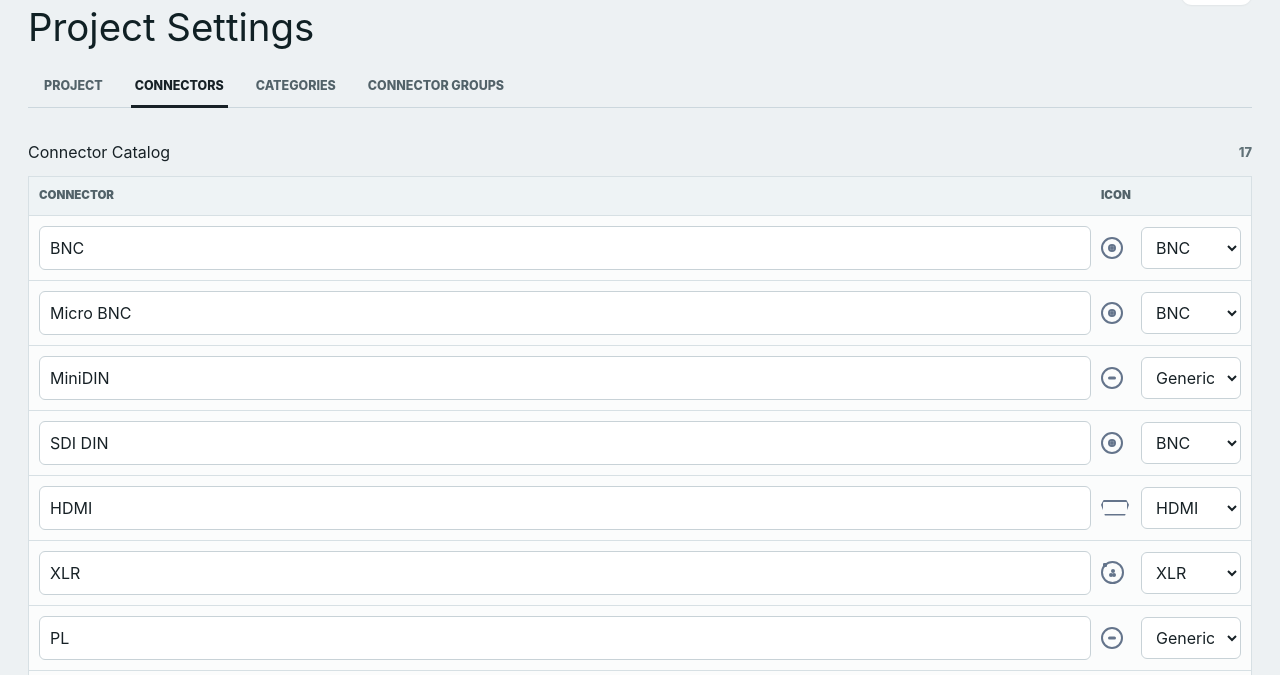
SettingsWorkspace project settings workflows › blocks blank prefixes, uppercases the prefix input, trims names, and resets after add
Click the tab "Project" at (73, 86), box [28,65,119,107]
(page scrolled)
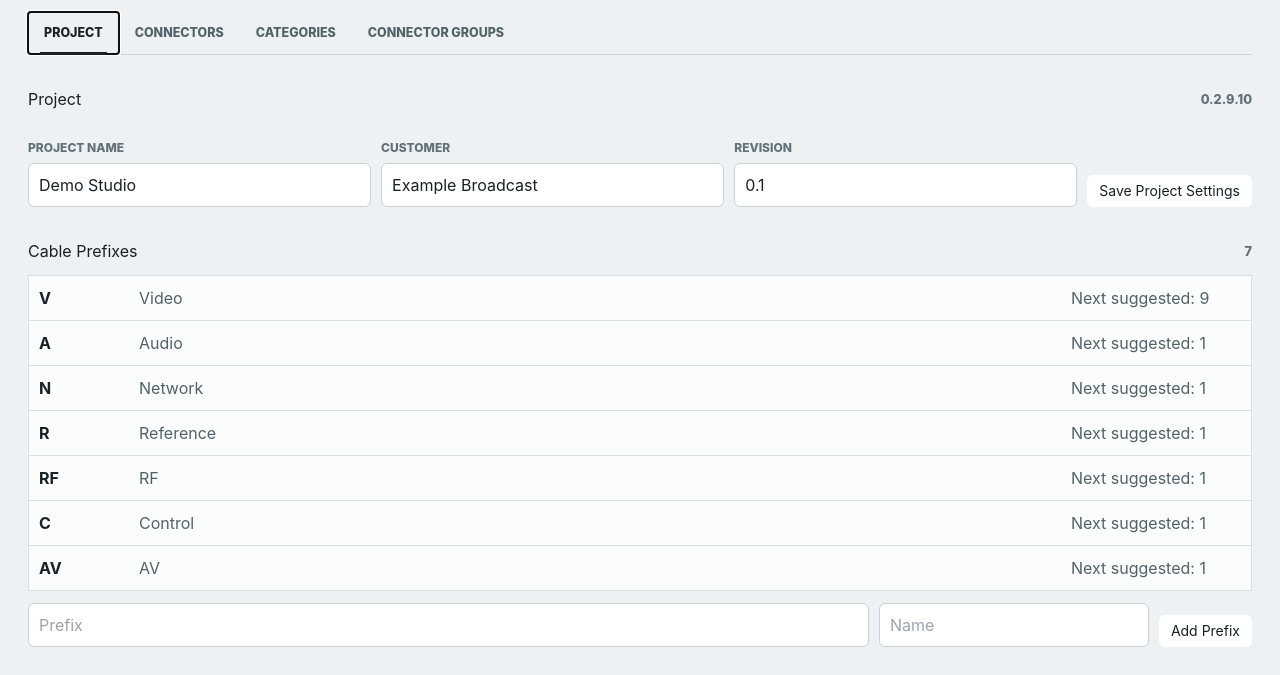
Click the button "Add Prefix" at (1205, 631), box [1159,615,1252,647]
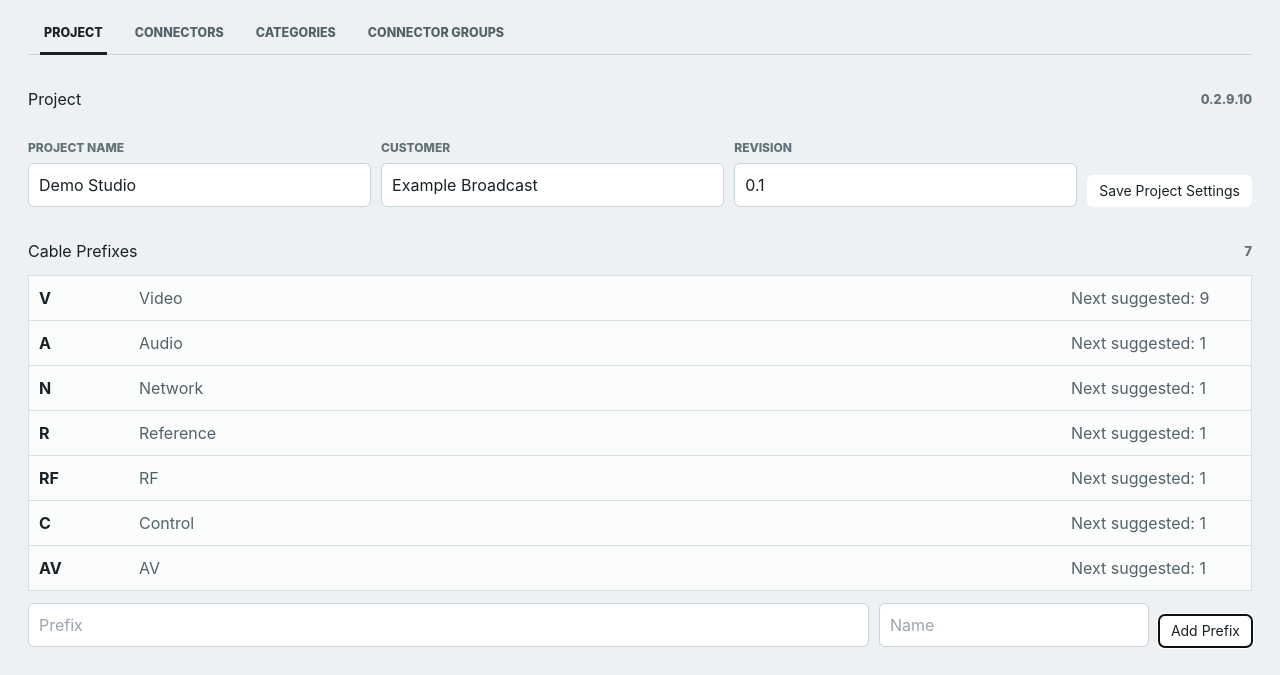
Type " x " into the field with placeholder "Prefix" at (448, 625), box [28,603,869,647]
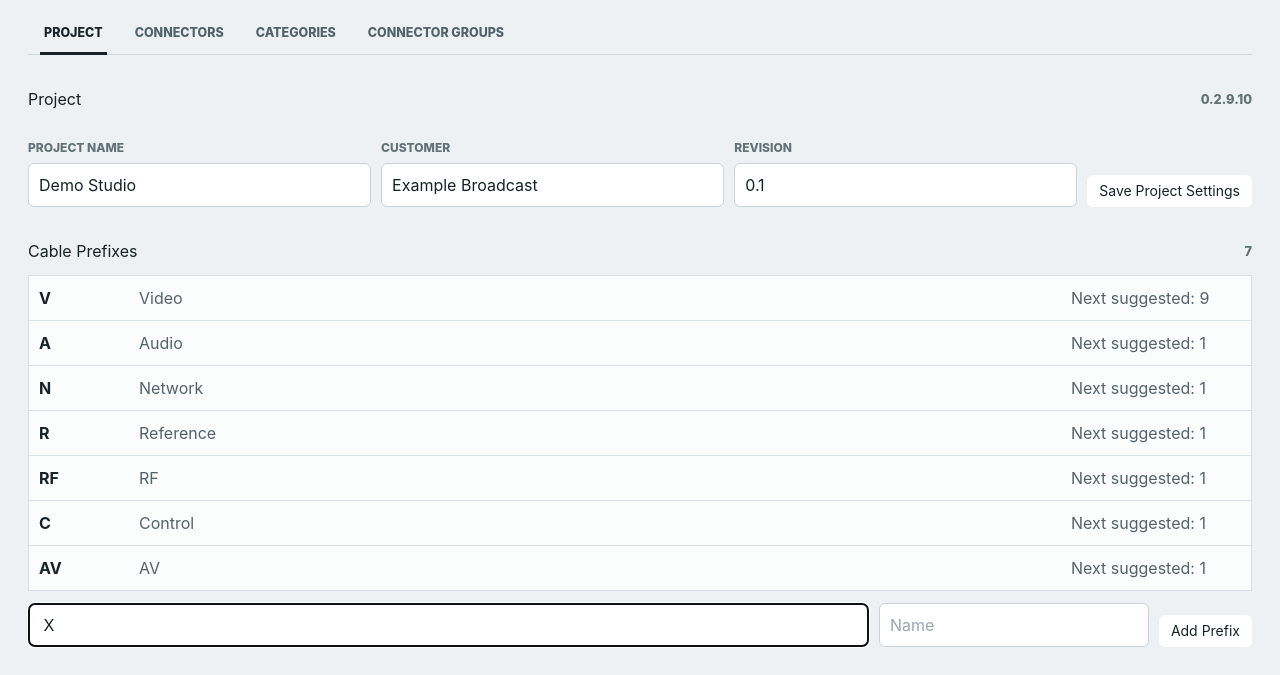
Type " Production " into the field with placeholder "Name" at (1014, 625), box [879,603,1149,647]
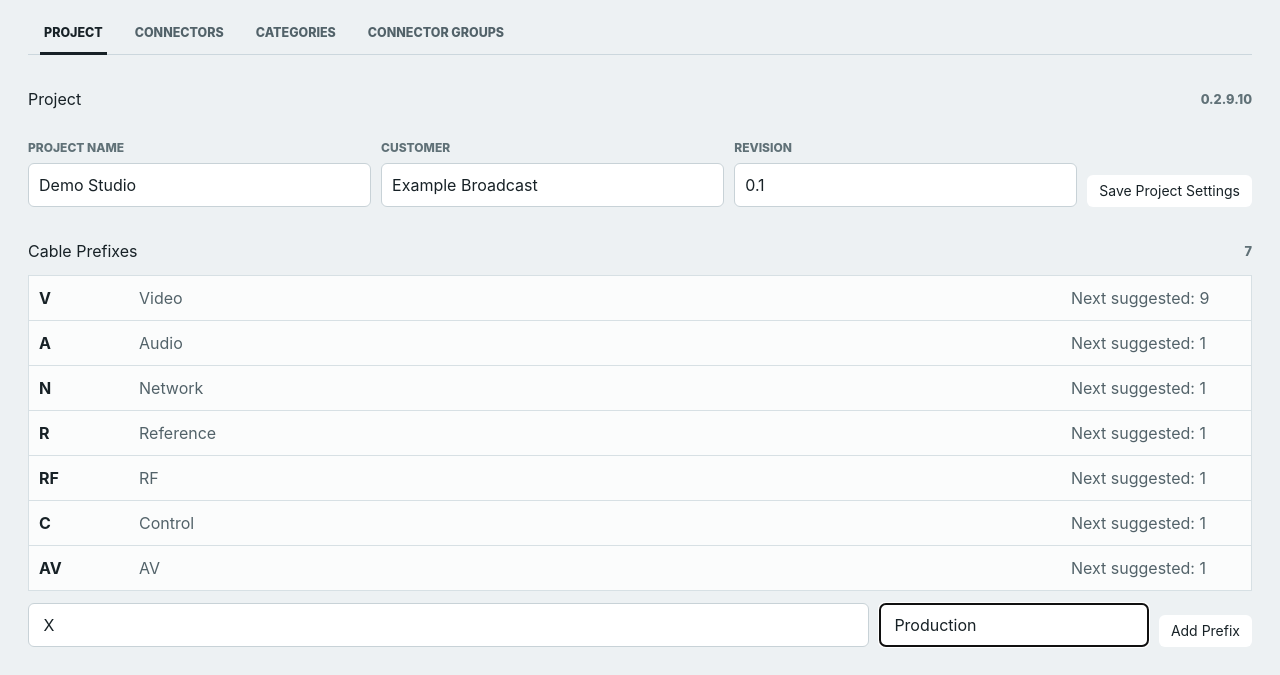
Click the button "Add Prefix" at (1205, 631), box [1159,615,1252,647]
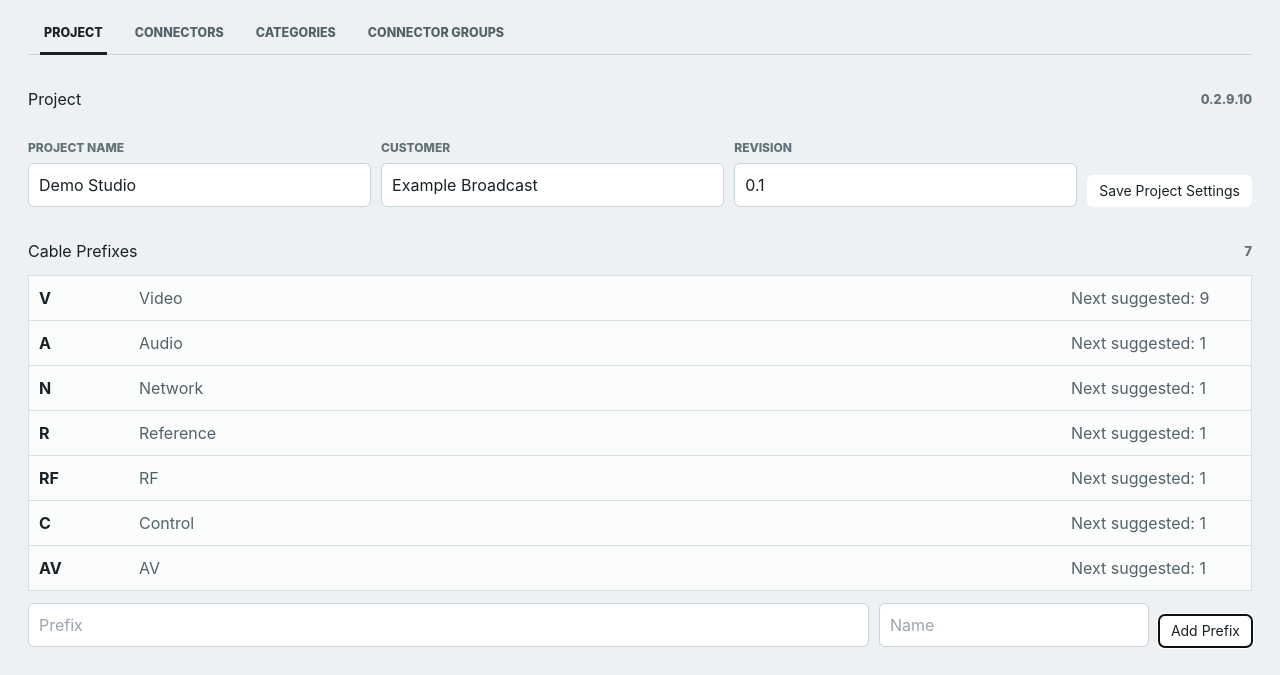
Now the text "Video" is shown, box [139,288,183,308]
Now the field with placeholder "Prefix" is empty, box [28,603,869,647]
Now the field with placeholder "Name" is empty, box [879,603,1149,647]
